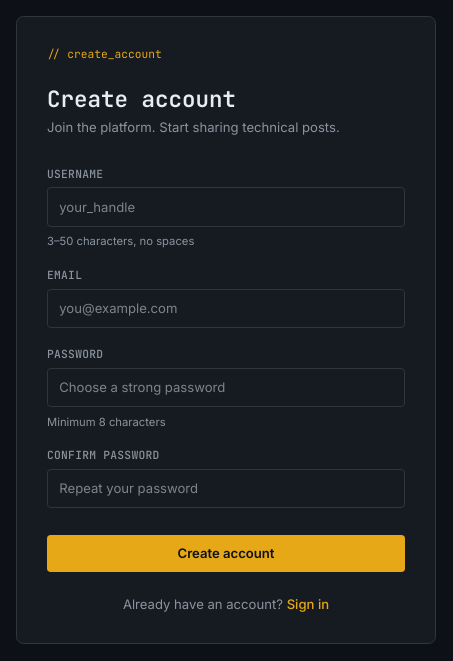
Test: RegisterView › shows error when password is too short
This screenshot has width=453, height=661.
Step 1. Type "validuser" into the field with id "username" → (226, 207), box [47,187,405,227]
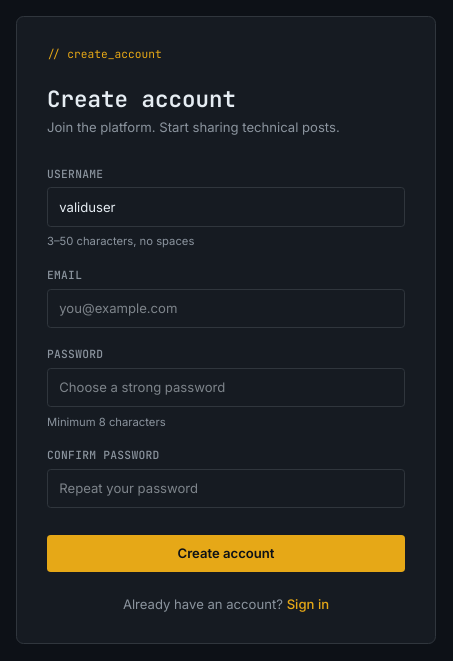
Step 2. Type "test@test.com" into the field with id "email" → (226, 308), box [47,289,405,328]
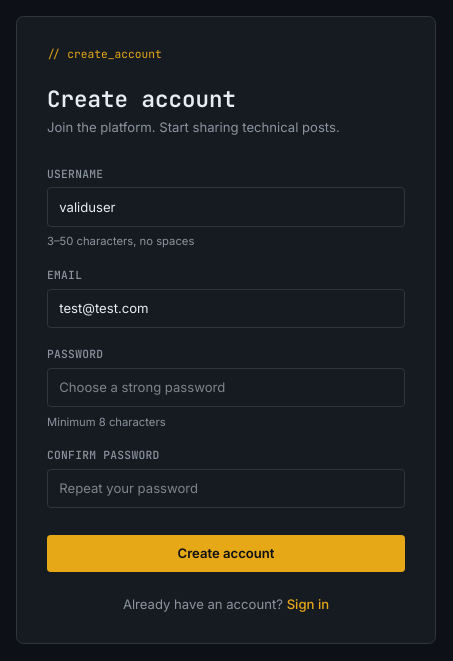
Step 3. Type "short" into the password field labelled "Password" → (226, 387), box [47,368,405,407]
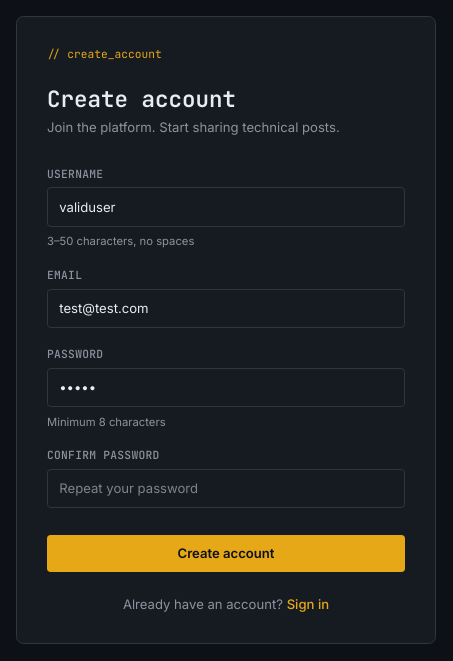
Step 4. Type "short" into the password field with id "confirmPassword" → (226, 489), box [47,469,405,508]
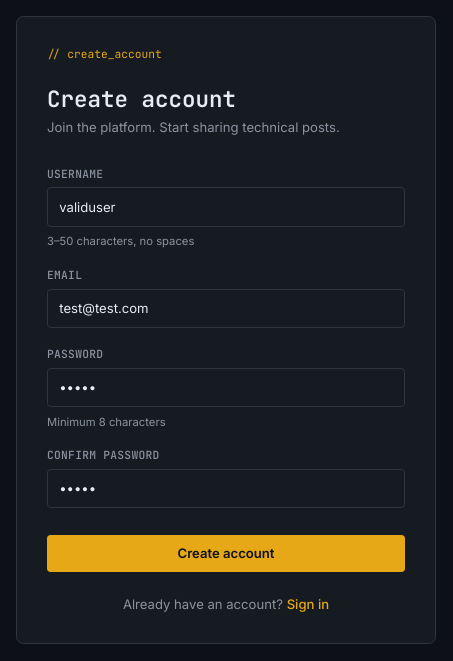
Step 5. Submit the form, box [47,167,405,572]
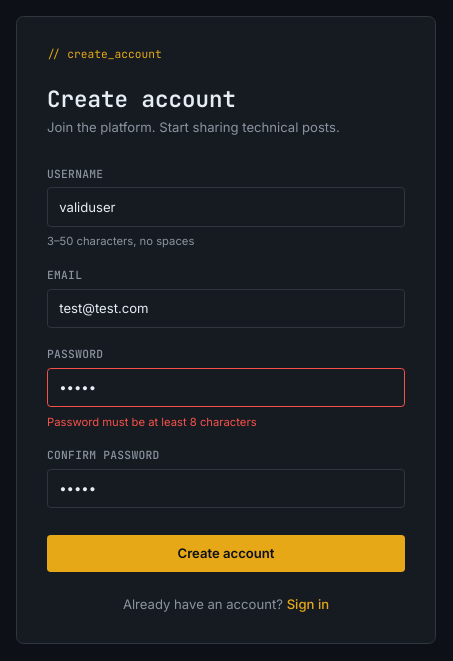
Expected: the text "at least 8" is shown, [47,414,257,428]
